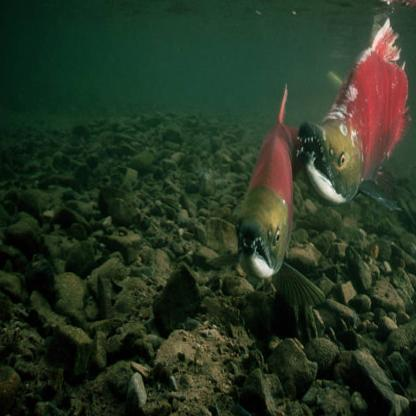sockeye: (298, 26, 408, 198), (239, 89, 295, 281)
